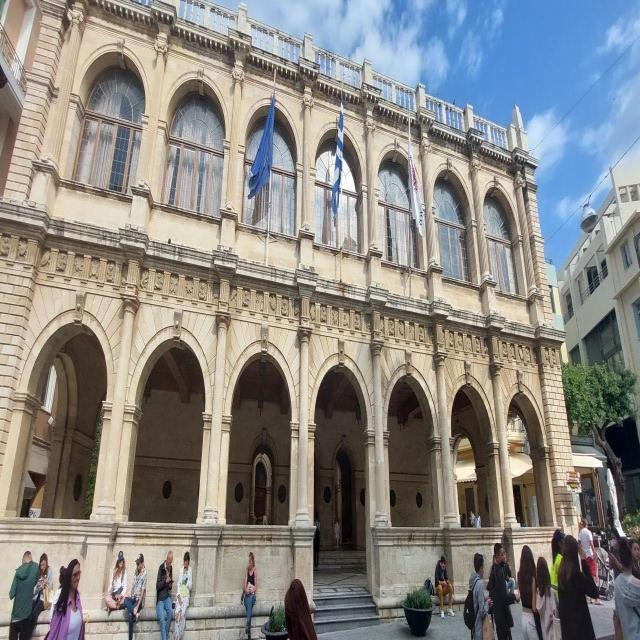Loggia: (1, 1, 591, 640)
